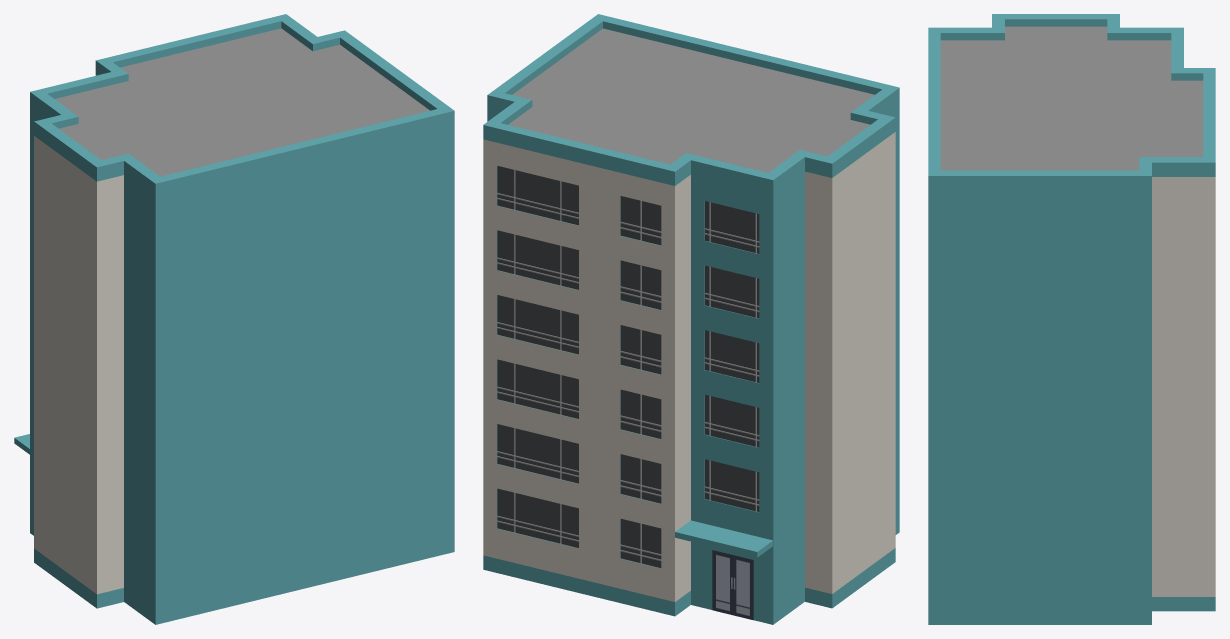
Rendered from bldg_02_01.glb.
3 renders of one model, left to right at view 1: azimuth 30°, elevation 25°; view 2: azimuth 150°, elevation 25°; view 3: azimuth 270°, elevation 25°, orthographic.
Visible parts, largest first — view 1: SPW_Urban_Bldg_02; view 2: SPW_Urban_Bldg_02; view 3: SPW_Urban_Bldg_02.
Boxes of the visible parts, left/top/right/bottom form: SPW_Urban_Bldg_02: left=14, top=14, right=454, bottom=624; SPW_Urban_Bldg_02: left=483, top=14, right=899, bottom=624; SPW_Urban_Bldg_02: left=928, top=14, right=1215, bottom=624.
Size of the model in its own units: 21 by 27.13 by 15.75.
1 material, 1 textured.
